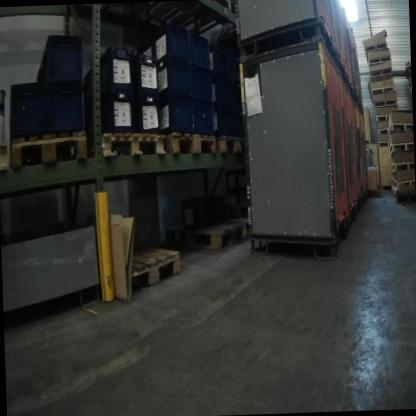pallet: (120, 237, 182, 304), (147, 1, 235, 42), (10, 128, 86, 171), (182, 208, 245, 255), (93, 122, 167, 161), (162, 125, 218, 161), (215, 131, 250, 161), (0, 131, 22, 176), (230, 211, 254, 239), (371, 95, 398, 114), (363, 41, 389, 60), (388, 120, 413, 136), (388, 140, 414, 153), (370, 85, 396, 97), (393, 175, 415, 189), (375, 112, 400, 124), (369, 67, 393, 79), (369, 54, 392, 66), (392, 161, 414, 172), (382, 179, 392, 196), (376, 140, 392, 149), (378, 126, 391, 135), (403, 58, 411, 68), (408, 80, 412, 91)
small_load_carrier: (31, 29, 88, 97), (3, 62, 48, 138), (78, 45, 136, 98), (90, 81, 140, 138), (127, 46, 163, 103), (47, 80, 85, 133), (154, 53, 187, 101), (152, 26, 188, 68), (154, 94, 193, 132), (187, 30, 213, 71), (134, 96, 164, 130), (193, 98, 219, 137), (207, 103, 233, 142), (191, 59, 213, 103), (207, 75, 232, 105), (205, 45, 229, 76)
